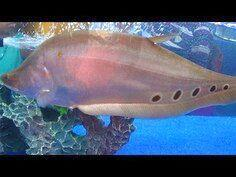Knifefish: (0, 30, 236, 120)
